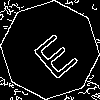E: (25, 25, 80, 81)
